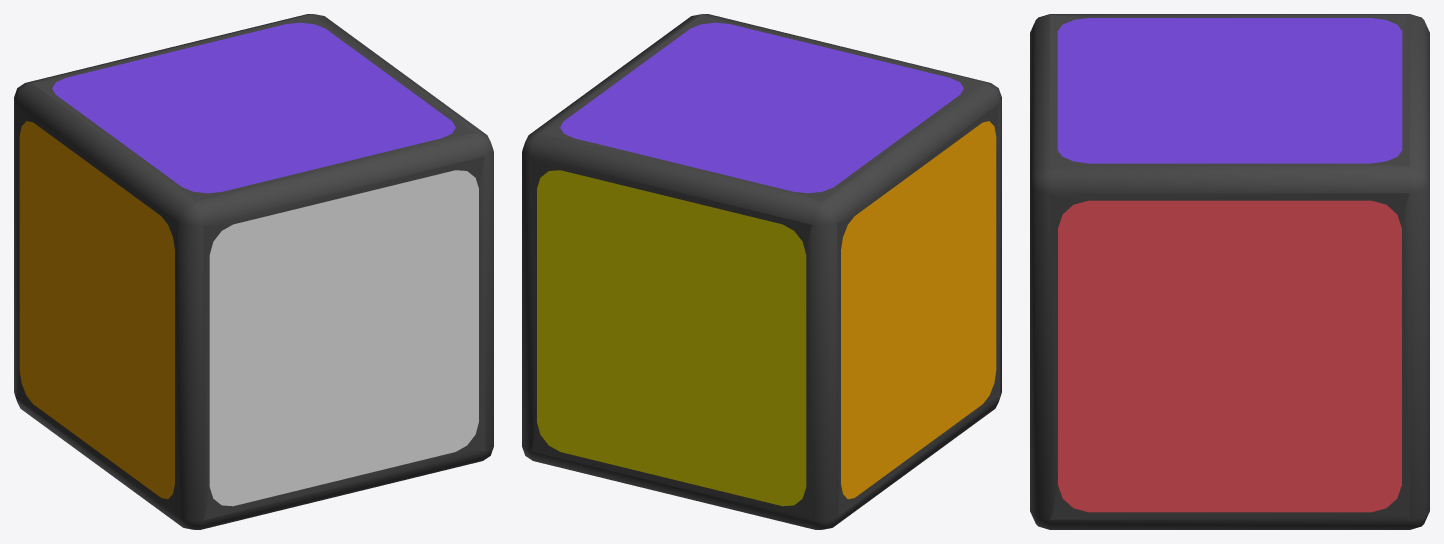
3 views of the same model, side by side, from view 1: azimuth 30°, elevation 25°; view 2: azimuth 150°, elevation 25°; view 3: azimuth 270°, elevation 25° (orthographic). The views are drawn at different scales.
Visible parts, largest first — view 1: Cube; view 2: Cube; view 3: Cube.
Boxes of the visible parts, x1=… form: Cube: x1=14, y1=14, x2=493, y2=529; Cube: x1=522, y1=14, x2=1001, y2=529; Cube: x1=1030, y1=14, x2=1429, y2=529.
Size of the model in its own units: 2 by 2 by 2.
